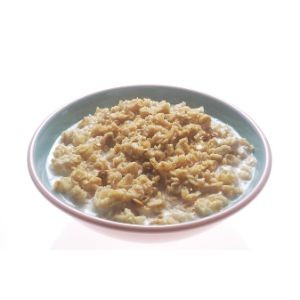oat_brain food: (82, 112, 240, 198)
